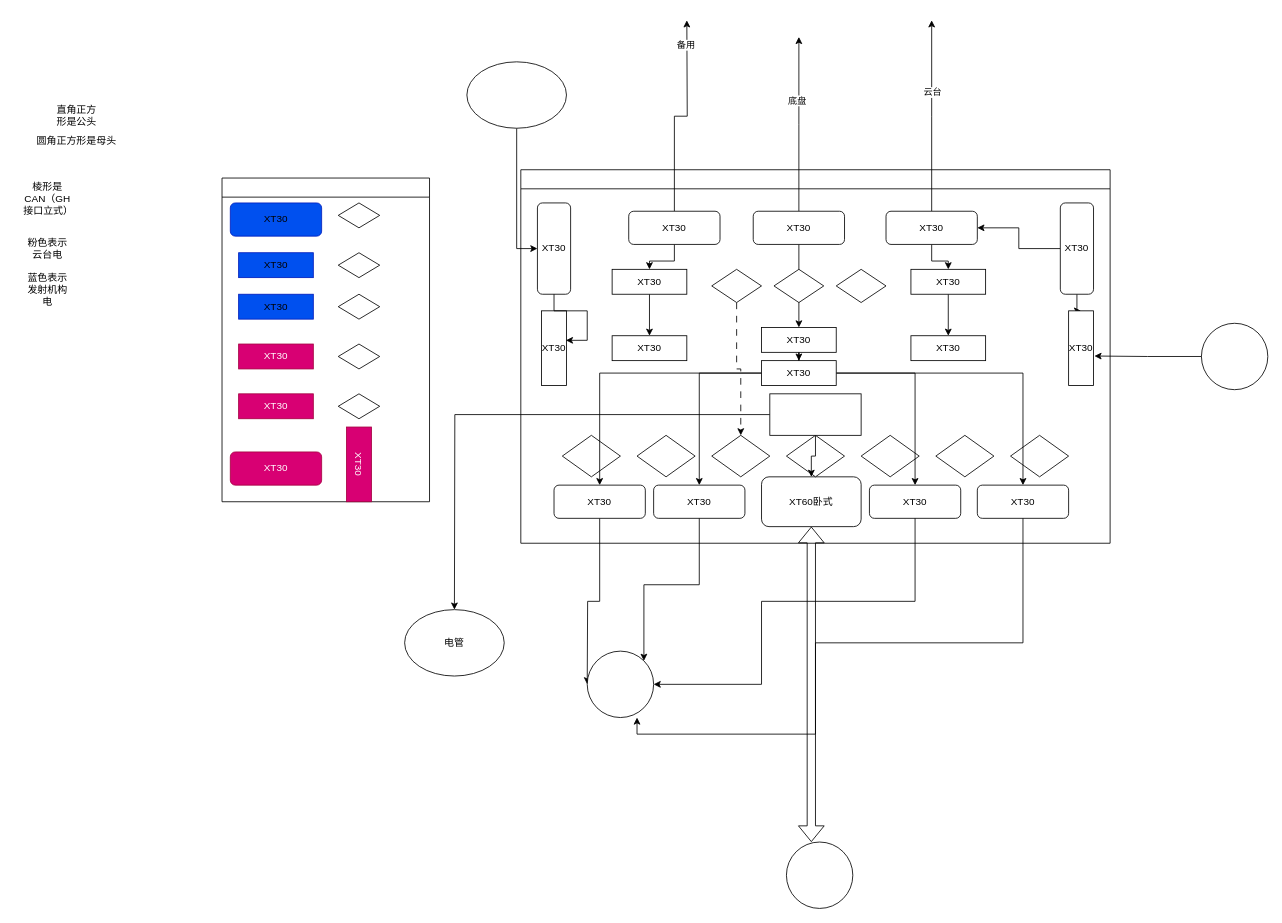
Image size: 1282x923. Some labels were removed from this diagram. The box of each missing label's shape, as (x1, y1, x2, y2) in pixels:
minipc: (466, 61, 566, 128)
XT60: (769, 393, 861, 435)
上云台分电板: (221, 177, 430, 502)
大yaw: (1201, 322, 1268, 390)
底盘分电板: (520, 169, 1110, 543)
底盘电机: (586, 650, 654, 718)
电源: (786, 841, 853, 908)
